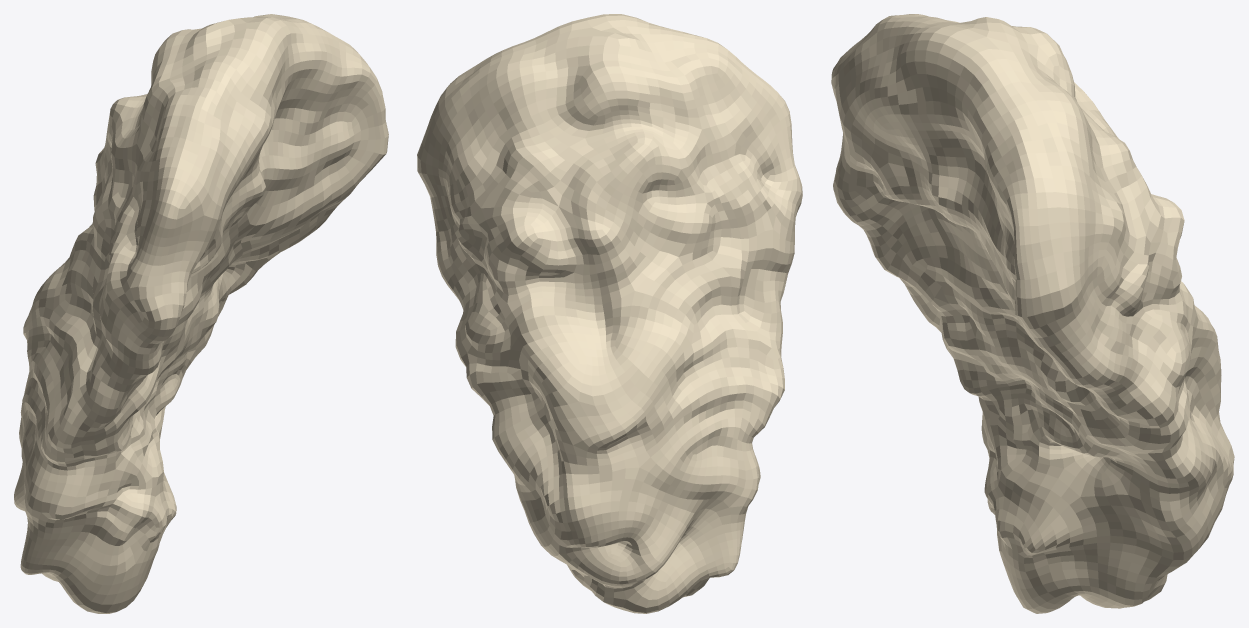
Rendered from 3d-vh-f-palatine-tonsil-r.glb.
3 renders of one model, left to right at view 1: azimuth 30°, elevation 25°; view 2: azimuth 150°, elevation 25°; view 3: azimuth 270°, elevation 25°, orthographic. The views are drawn at different scales.
Visible parts, largest first — view 1: VH_F_palatine_tonsil_R; view 2: VH_F_palatine_tonsil_R; view 3: VH_F_palatine_tonsil_R.
Part boxes in pixels (x1,y1,x2,y2): VH_F_palatine_tonsil_R: (14,14,388,613); VH_F_palatine_tonsil_R: (417,14,802,613); VH_F_palatine_tonsil_R: (831,14,1234,613).
Bounding box in the file's own units: 0.0178 × 0.0273 × 0.0156.
